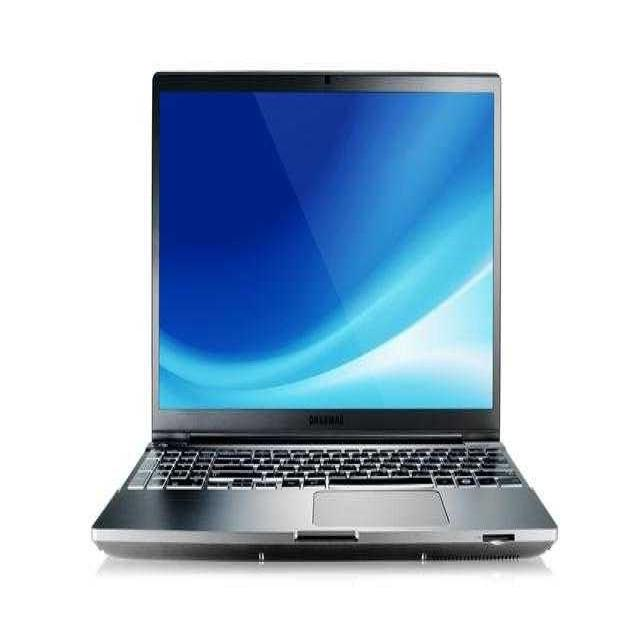laptop: (3, 41, 549, 622)
